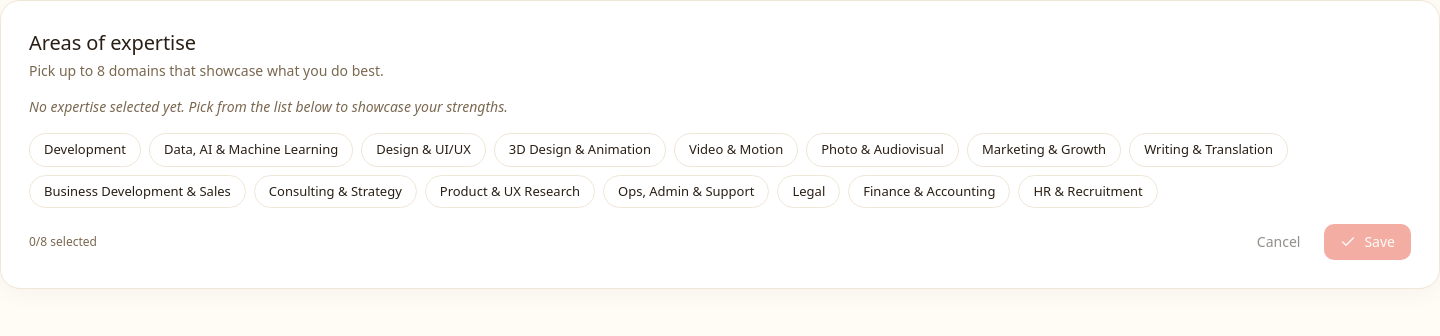
Test: ExpertiseEditor › toggles a domain into the selected list when the picker button is clicked
The image size is (1440, 336).
Step 1. Click the button "Development" → (85, 150), box [29,133,141,166]
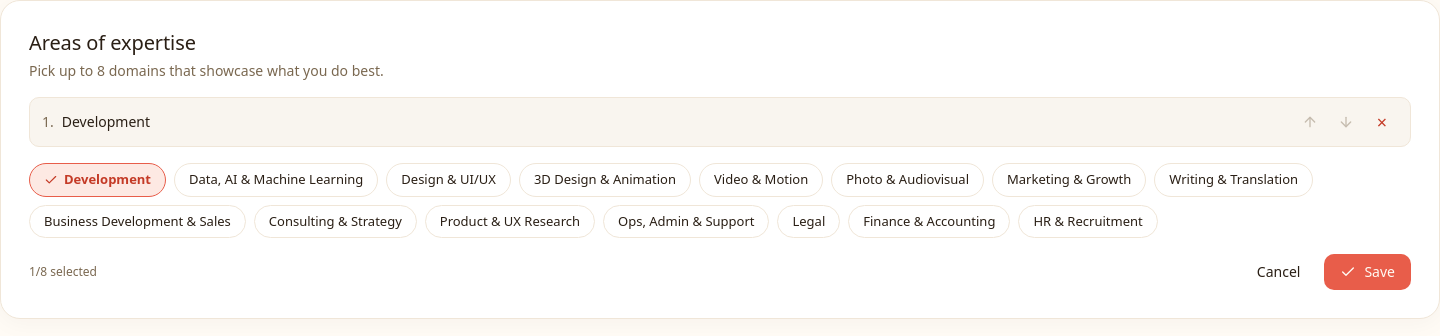
Check: the text "1/8 selected" is shown, box [29,264,97,280]
